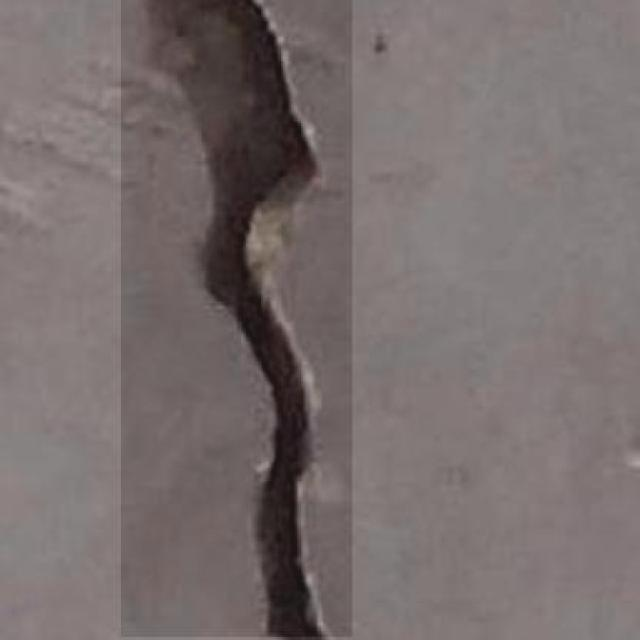crack: (120, 0, 374, 640)
